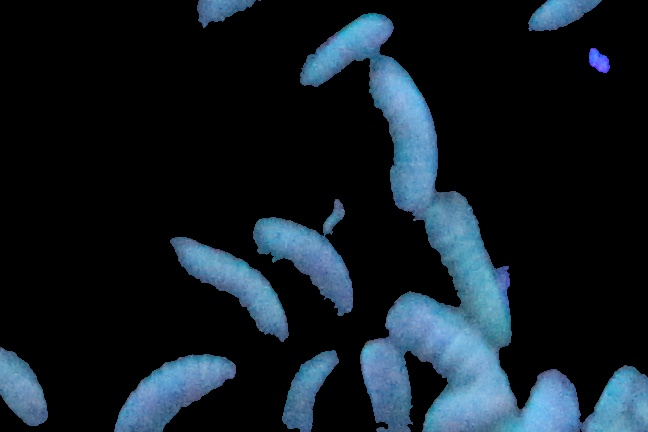larvae: (168, 232, 299, 357), (424, 187, 512, 347), (362, 48, 441, 225), (258, 217, 358, 325), (385, 287, 496, 380), (106, 355, 236, 432), (291, 11, 395, 88), (423, 376, 519, 432), (360, 338, 416, 432), (285, 348, 342, 432), (1, 344, 58, 423), (523, 359, 582, 432), (526, 1, 618, 42)
